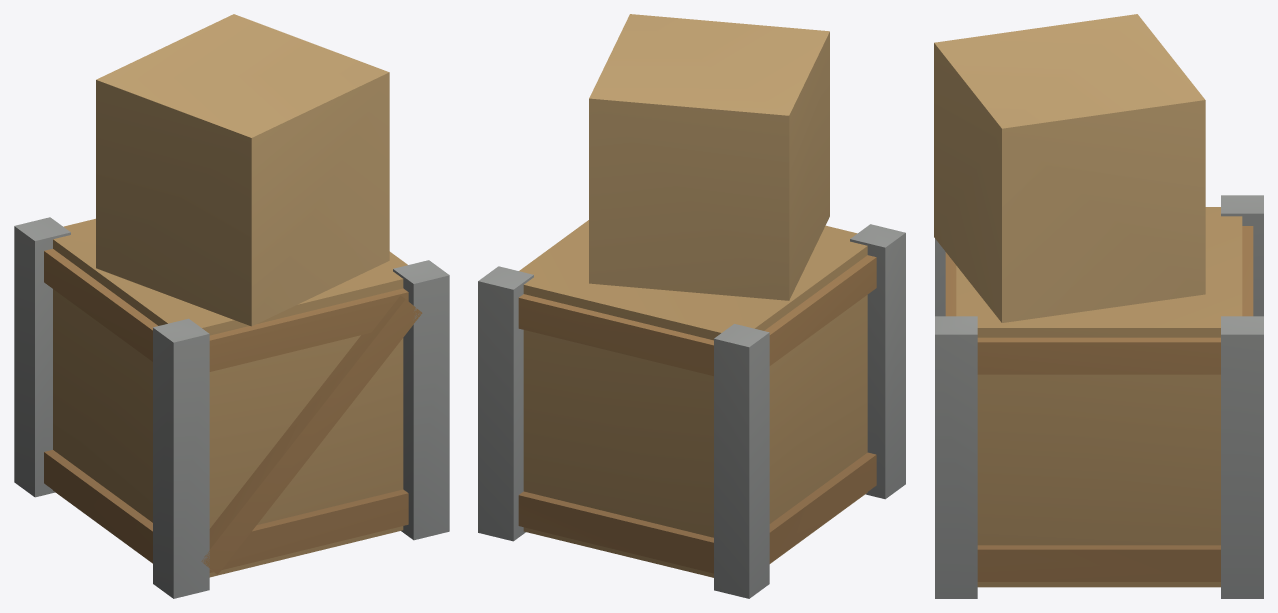
Rendered from cen_valak_caixa_0.glb.
The picture shows the model from 3 angles, left to right: view 1: azimuth 30°, elevation 25°; view 2: azimuth 150°, elevation 25°; view 3: azimuth 270°, elevation 25°; orthographic projection. The views are drawn at different scales.
Parts seen in each view (by area): view 1: caixa; view 2: caixa; view 3: caixa.
Part boxes in pixels (x1=…): caixa: x1=14, y1=14, x2=449, y2=598; caixa: x1=478, y1=14, x2=905, y2=598; caixa: x1=934, y1=14, x2=1263, y2=598.
Size of the model in its own units: 0.92 by 1.41 by 0.9223.
